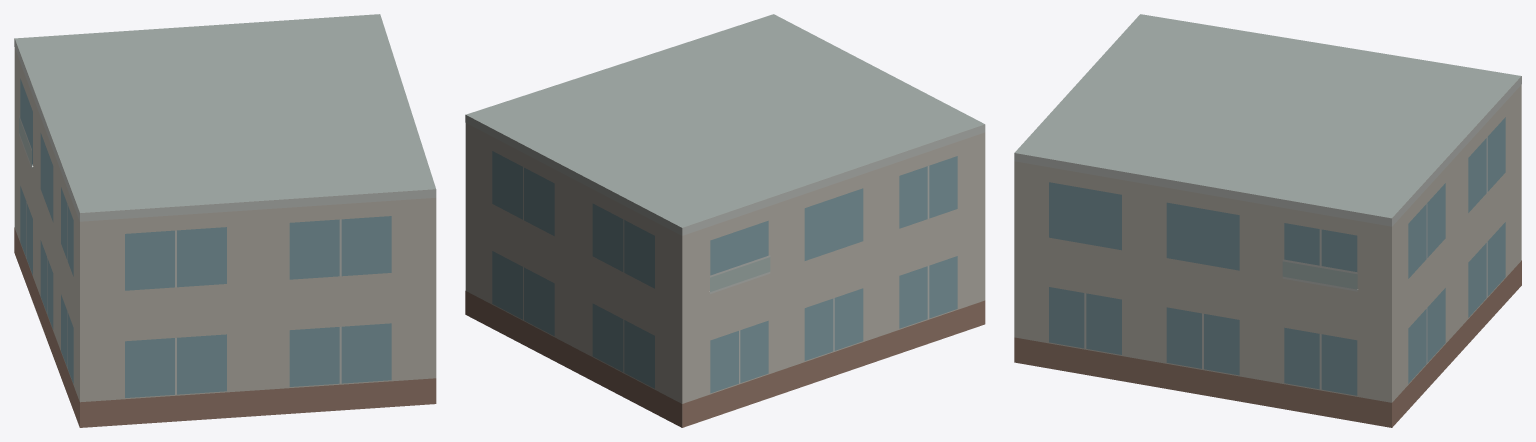
Rendered from survey-upis-32803566.glb.
The picture shows the model from 3 angles, left to right: view 1: azimuth 30°, elevation 25°; view 2: azimuth 150°, elevation 25°; view 3: azimuth 270°, elevation 25°; orthographic projection. The views are drawn at different scales.
Visible parts, largest first — view 1: survey-upis-32803566.tmp; view 2: survey-upis-32803566.tmp; view 3: survey-upis-32803566.tmp.
Boxes of the visible parts, x1,y1,x2,y2 form: survey-upis-32803566.tmp: (14,14,436,427); survey-upis-32803566.tmp: (465,14,985,427); survey-upis-32803566.tmp: (1014,14,1521,427).
Size of the model in its own units: 12.77 by 6.1 by 13.4.
